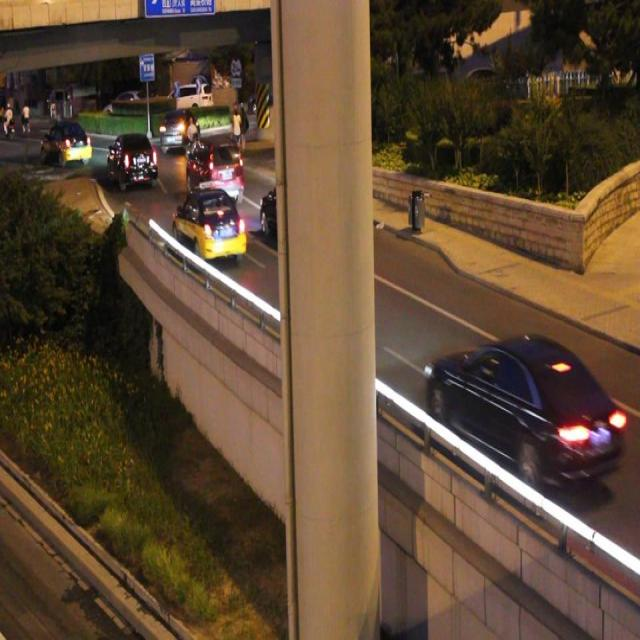car: (422, 330, 624, 484), (170, 180, 247, 262), (257, 168, 333, 250), (187, 134, 243, 203)
